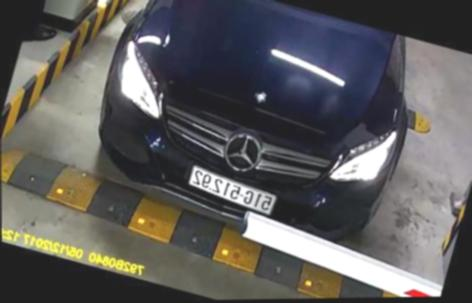License_Plate: (182, 161, 280, 218)
